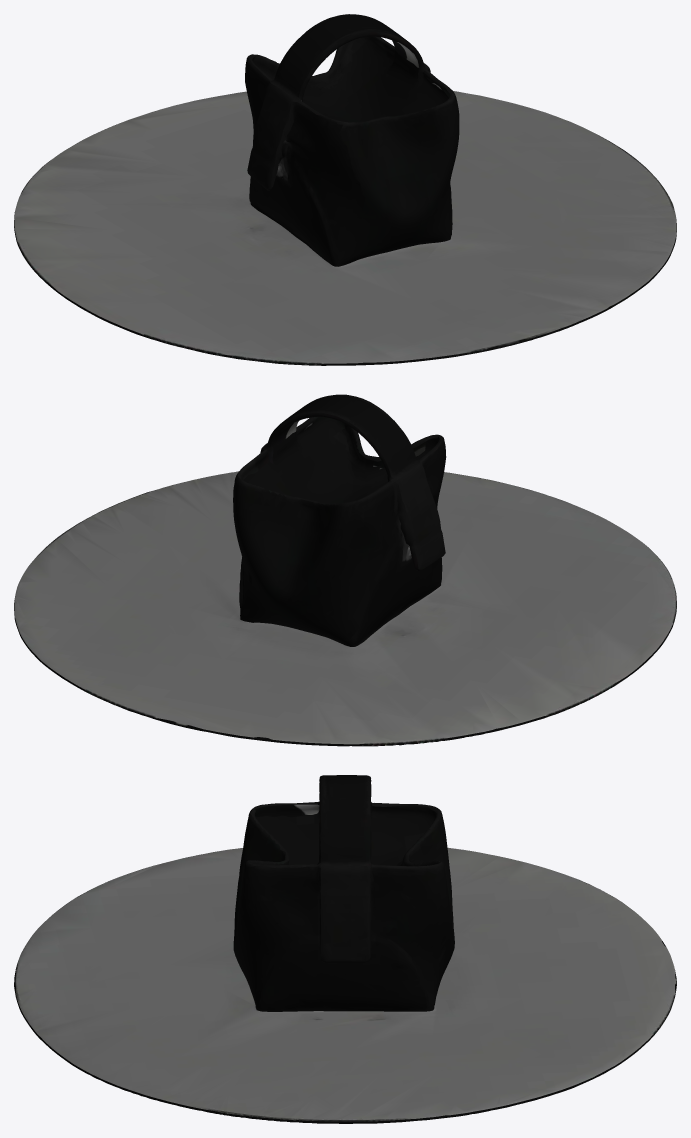
The model's file is acessorios-optimized.glb.
The picture shows the model from 3 angles, top to bottom: view 1: azimuth 30°, elevation 25°; view 2: azimuth 150°, elevation 25°; view 3: azimuth 270°, elevation 25°; orthographic projection.
Visible parts, largest first — view 1: textured_mesh; view 2: textured_mesh; view 3: textured_mesh.
Boxes of the visible parts, x1,y1,x2,y2 form: textured_mesh: (14, 14, 676, 365); textured_mesh: (14, 394, 676, 746); textured_mesh: (14, 775, 676, 1123).
Bounding box in the file's own units: 1.99 × 0.6784 × 1.99.
Materials: 1 (1 with a texture image).
